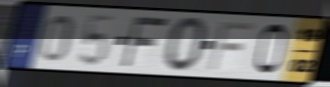0: (38, 13, 78, 62), (254, 22, 287, 76)
5: (78, 12, 116, 67)
F: (119, 15, 171, 68), (206, 20, 256, 73)
O: (163, 15, 209, 74)
